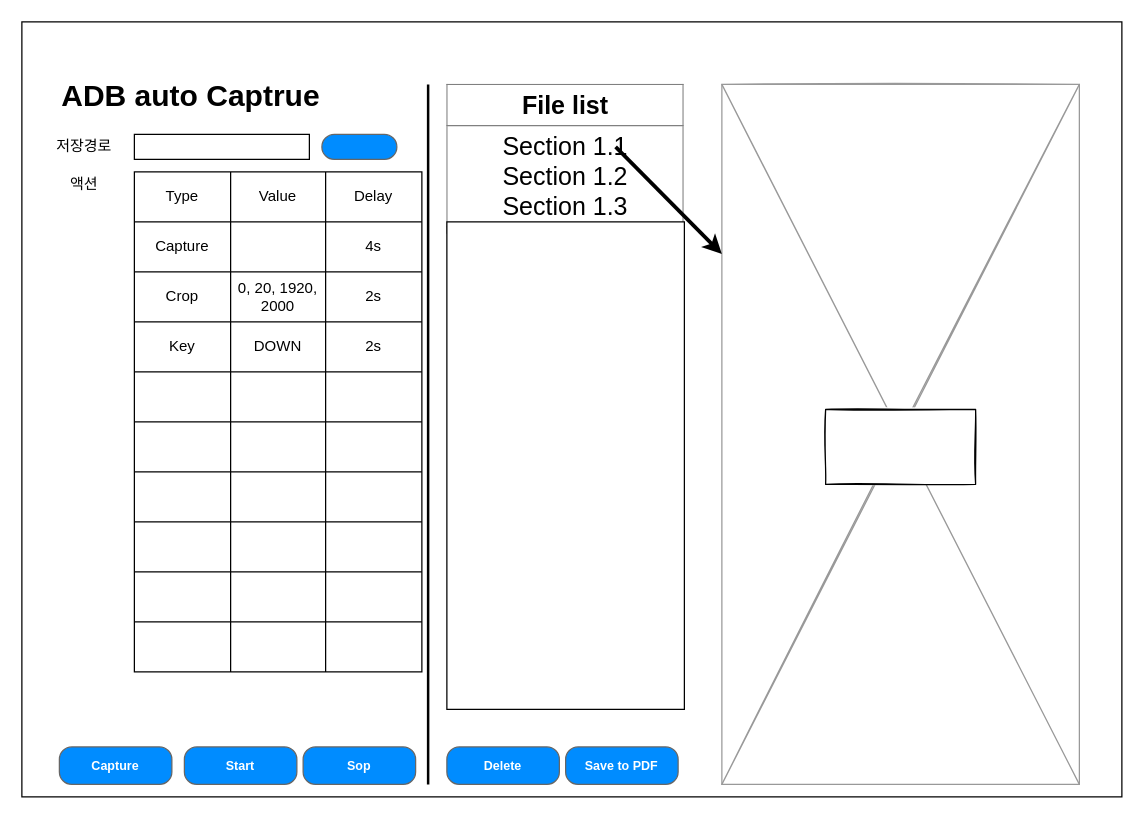
Some shapes in this 1144 by 819 pixel diagram are drawn without their labels. The centre of each missing label's shape, as x and y in pixels:
SCREEN: [900,446]
찾기: [359,146]
